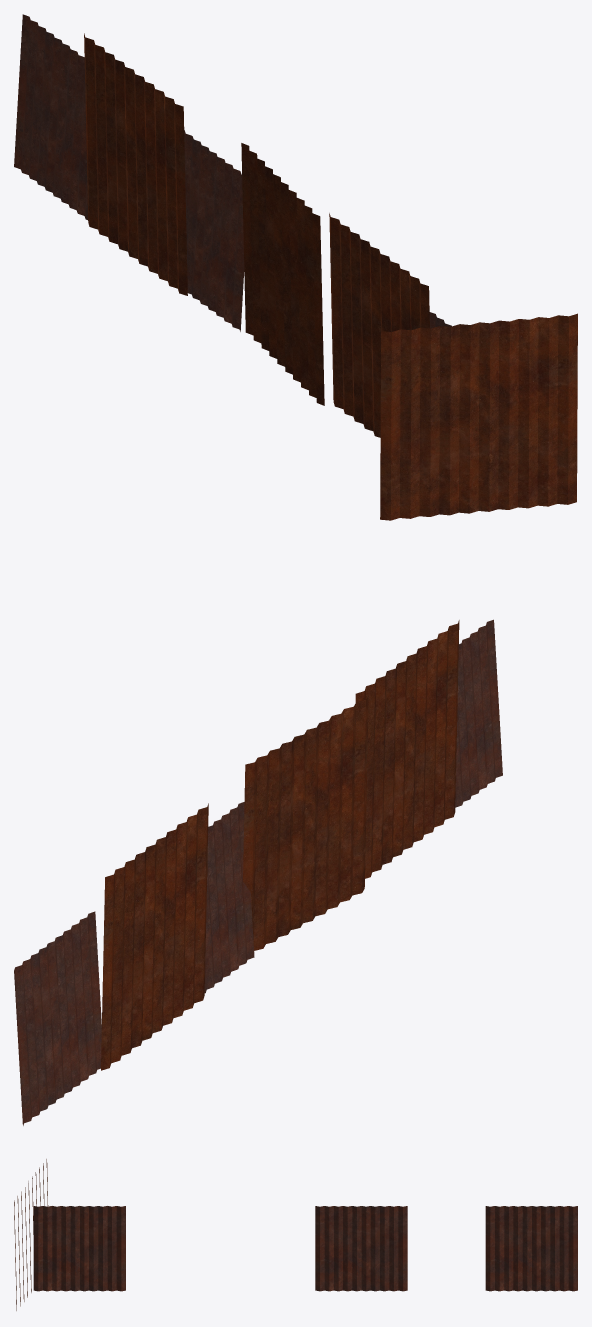
Rendered from Metal Wall.glb.
3 views of the same model, one above another, from view 1: azimuth 30°, elevation 25°; view 2: azimuth 150°, elevation 25°; view 3: azimuth 270°, elevation 25° (orthographic). The views are drawn at different scales.
Visible parts, largest first — view 1: Metal Wall; view 2: Metal Wall; view 3: Metal Wall.
Boxes of the visible parts, x1=… form: Metal Wall: x1=14, y1=14, x2=577, y2=520; Metal Wall: x1=14, y1=619, x2=502, y2=1125; Metal Wall: x1=14, y1=1159, x2=577, y2=1310.
Size of what is drawn, in the model's own units: 5.02 by 5.48 by 25.35.
7 materials, 7 textured.
